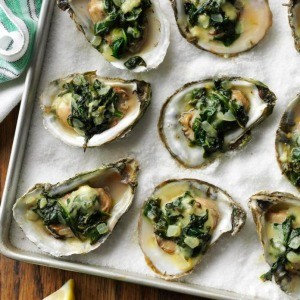oyster_brain food: (13, 168, 138, 254), (168, 74, 248, 167), (43, 79, 139, 153), (141, 199, 216, 271), (61, 2, 142, 63), (179, 7, 263, 53)
